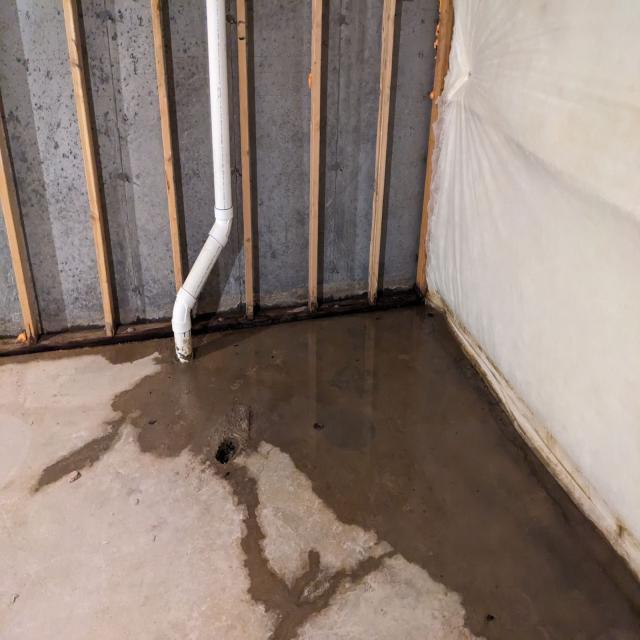water accumulation: (33, 299, 640, 640)
